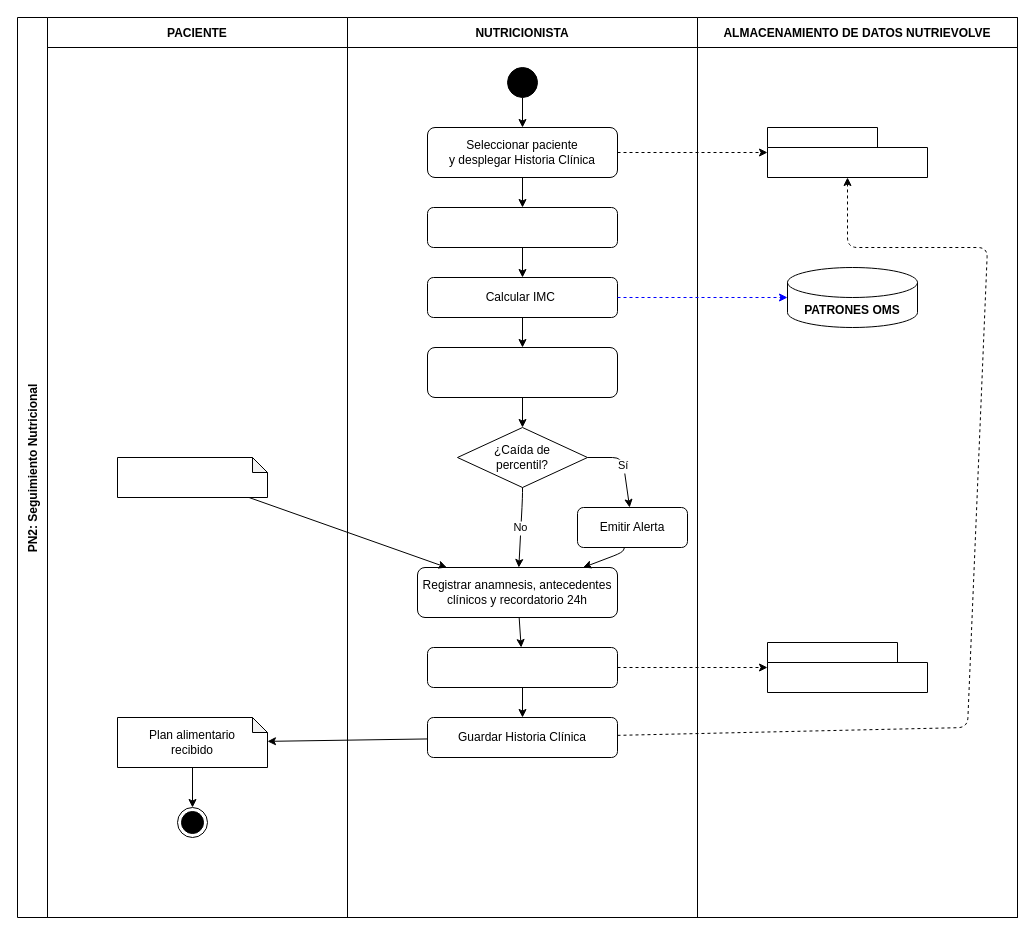
Some shapes in this 1035 by 935 pixel diagram are drawn without their labels. Here are the shapes that lost their labels. From the top down, the centre of each, then its label:
At (847,152): "HISTORIA CLÍNICA".
At (522,227): "Registrar antropométria".
At (522,372): "Generar Diagnóstico".
At (192,477): "Antecedentes y hábitos".
At (522,667): "Prescribir plan alimentario".
At (847,667): "PLANES ALIMENTARIOS".
